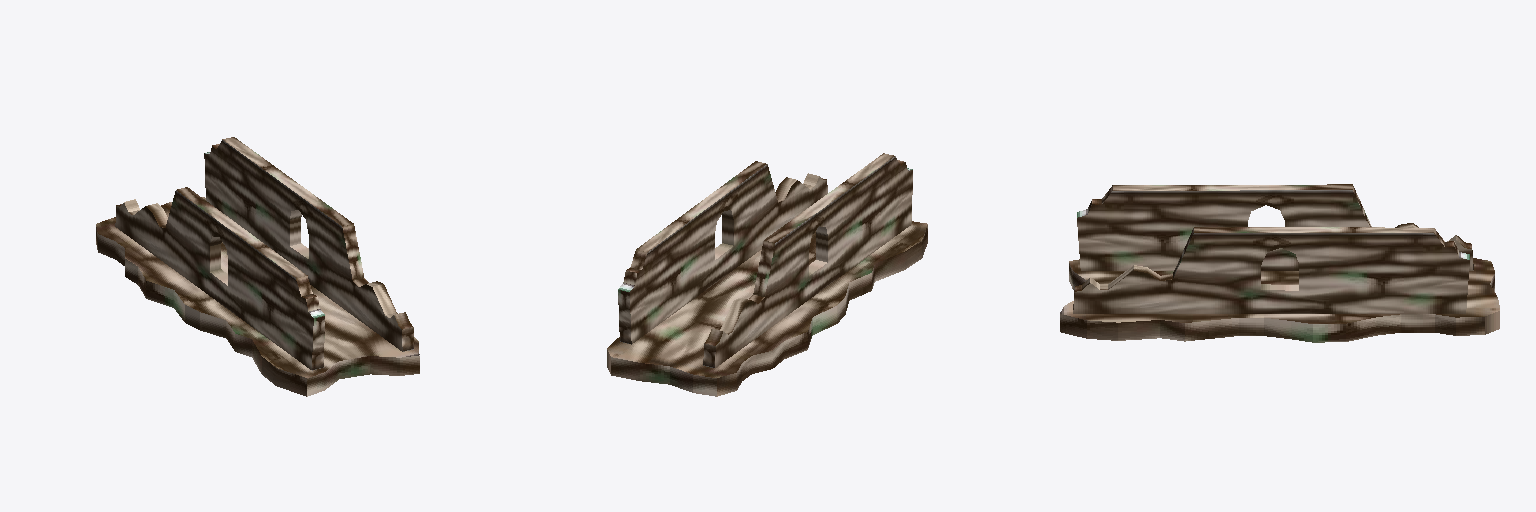
3 renders of one model, left to right at view 1: azimuth 30°, elevation 25°; view 2: azimuth 150°, elevation 25°; view 3: azimuth 270°, elevation 25°, orthographic.
Parts seen in each view (by area): view 1: mesh03, mesh02, mesh01; view 2: mesh01, mesh03, mesh02; view 3: mesh02, mesh03, mesh01.
Part boxes in pixels (left/top/right/bottom): mesh03: left=115, top=187, right=324, bottom=370; mesh02: left=204, top=137, right=413, bottom=351; mesh01: left=96, top=197, right=419, bottom=396; mesh01: left=607, top=221, right=927, bottom=396; mesh03: left=703, top=153, right=912, bottom=367; mesh02: left=618, top=161, right=827, bottom=344; mesh02: left=1073, top=227, right=1469, bottom=313; mesh03: left=1077, top=184, right=1473, bottom=270; mesh01: left=1060, top=258, right=1499, bottom=342.
Bounding box in the file's own units: 29.43 × 18.87 × 75.14.
Materials: 1 (1 with a texture image).